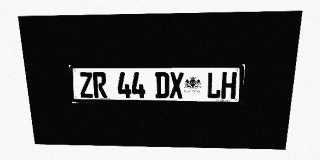4: (117, 72, 131, 98), (131, 72, 145, 98)
D: (155, 72, 169, 98)
H: (221, 72, 237, 99)
L: (206, 72, 222, 99)
R: (92, 72, 107, 98)
X: (169, 72, 184, 98)
Z: (78, 72, 94, 98)
